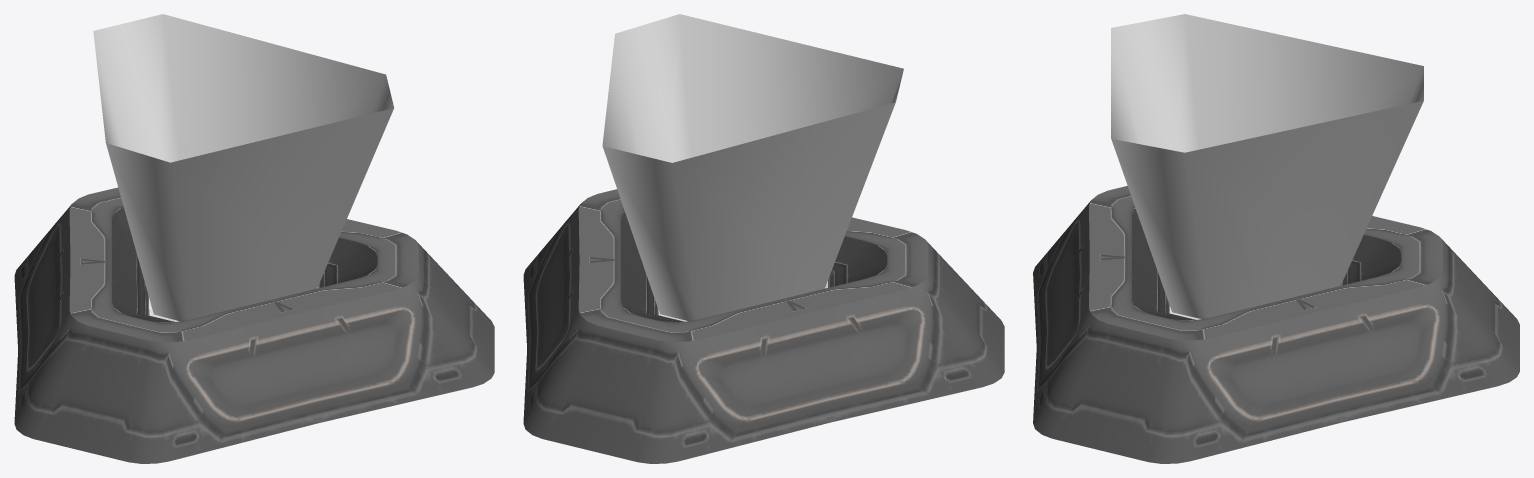
Rendered from quaternius-scifi-item-holder.glb.
3 views of the same model, side by side, from view 1: azimuth 30°, elevation 25°; view 2: azimuth 150°, elevation 25°; view 3: azimuth 270°, elevation 25° (orthographic).
Parts seen in each view (by area): view 1: Prop_ItemHolder; view 2: Prop_ItemHolder; view 3: Prop_ItemHolder.
Boxes of the visible parts, bbox=[...] form: Prop_ItemHolder: bbox=[14, 14, 494, 463]; Prop_ItemHolder: bbox=[523, 14, 1004, 463]; Prop_ItemHolder: bbox=[1033, 14, 1519, 463].
Bounding box in the file's own units: 0.8186 × 0.4358 × 0.7267.
3 materials, 2 textured.
